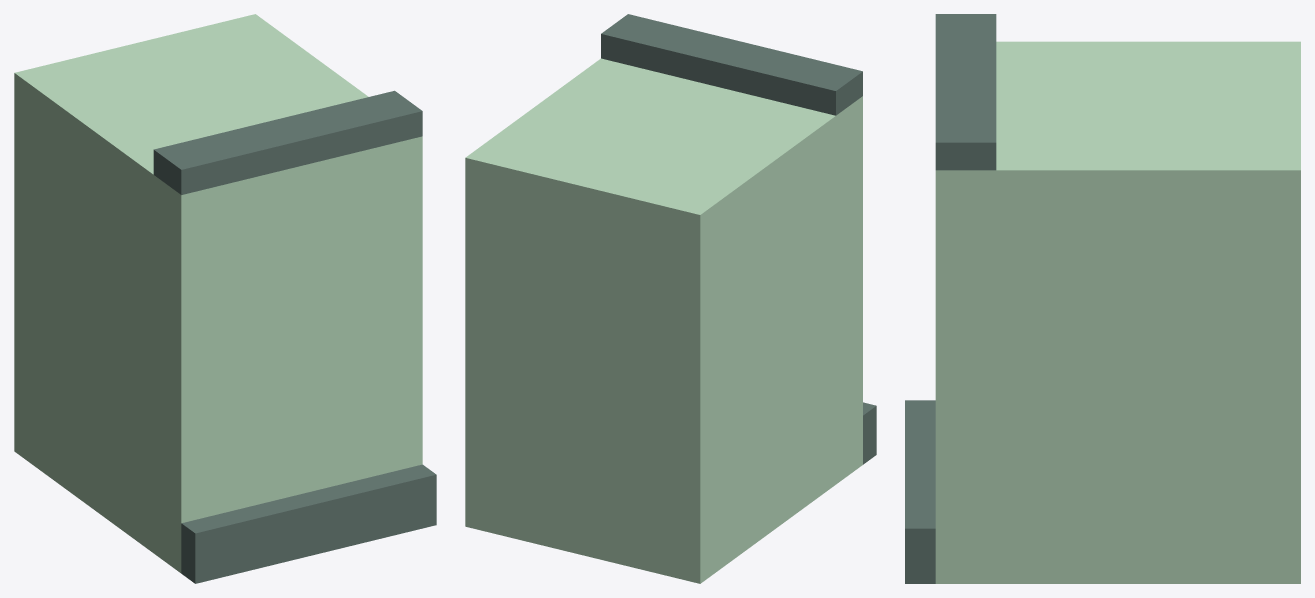
File: Ground1.fbx
3 renders of one model, left to right at view 1: azimuth 30°, elevation 25°; view 2: azimuth 150°, elevation 25°; view 3: azimuth 270°, elevation 25°, orthographic. The views are drawn at different scales.
Parts seen in each view (by area): view 1: Ground1; view 2: Ground1; view 3: Ground1.
Part boxes in pixels (left/top/right/bottom): Ground1: left=14, top=14, right=436, bottom=583; Ground1: left=465, top=14, right=876, bottom=583; Ground1: left=905, top=14, right=1300, bottom=583.
Bounding box in the file's own units: 1 × 1.6 × 1.3.
